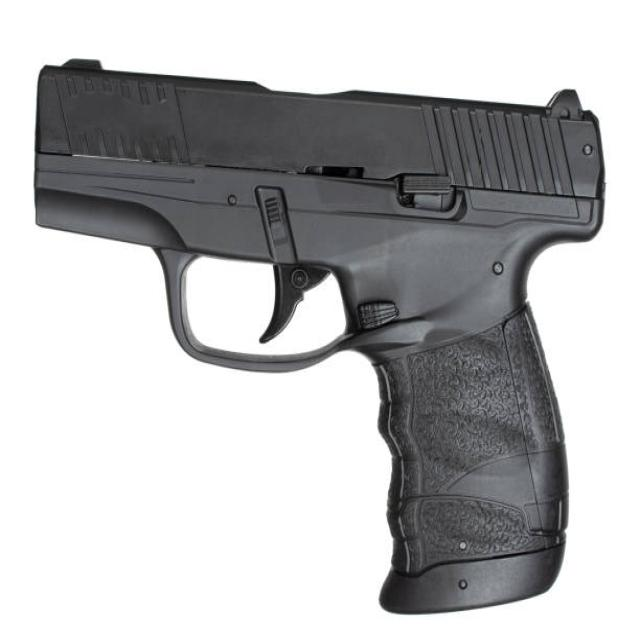pistol: (29, 57, 612, 620)
